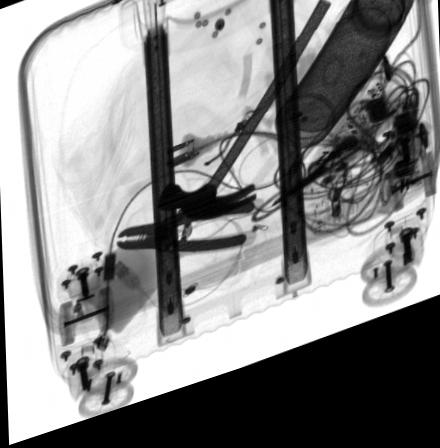Hammer: (154, 15, 330, 233)
Knife: (248, 117, 318, 207)
Pliers: (114, 214, 262, 268)
Scissors: (270, 84, 421, 225)
